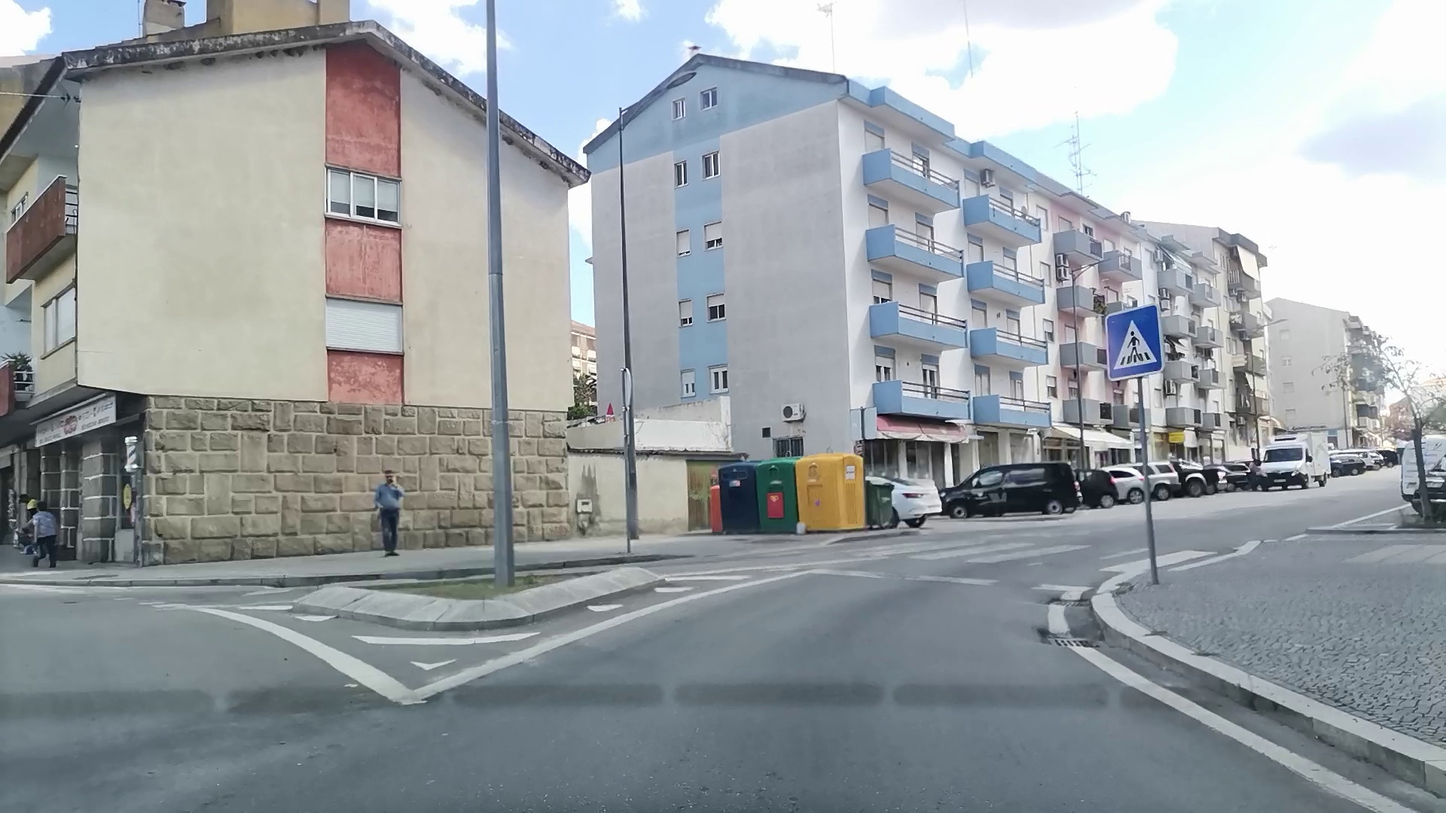Stairs: (732, 536, 1218, 574)
